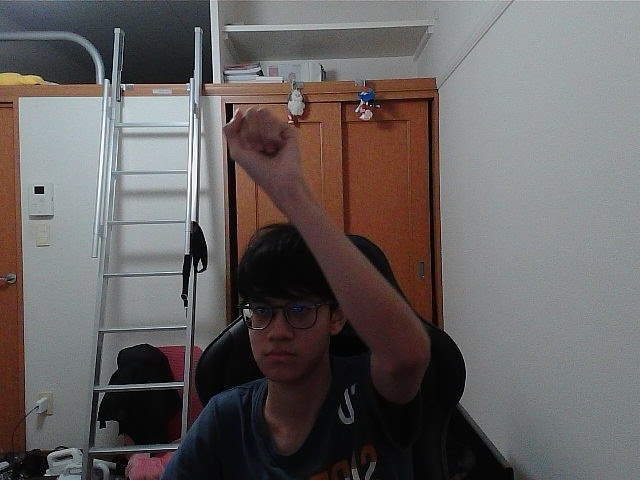closed_palm: (227, 105, 287, 165)
